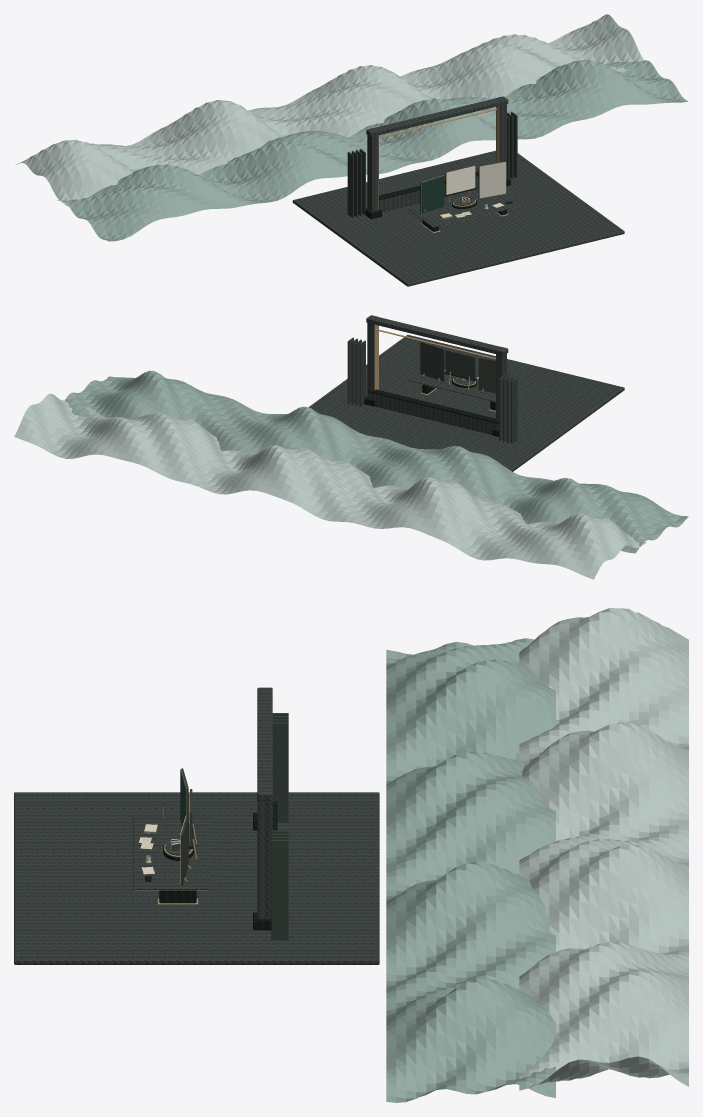
Rendered from c01-atelier.glb.
3 views of the same model, one above another, from view 1: azimuth 30°, elevation 25°; view 2: azimuth 150°, elevation 25°; view 3: azimuth 270°, elevation 25° (orthographic). The views are drawn at different scales.
Parts seen in each view (by area): view 1: Scenery ridge 0 | not geographic evidence, Scenery ridge 1 | not geographic evidence, Pavilion foundation, Research desk stone top, Window lintel, Pavilion pier, records inset reading face, evidence inset reading face, focus inset reading face, Low courtyard parapet, Pavilion pier.001, Side architecture fin.003; view 2: Scenery ridge 1 | not geographic evidence, Scenery ridge 0 | not geographic evidence, Pavilion foundation, Low courtyard parapet, Window lintel, Research desk stone top, records structural back, focus structural back, Parapet coping, Pavilion pier.001, evidence structural back, Side architecture fin.003 (+2 smaller); view 3: Scenery ridge 0 | not geographic evidence, Scenery ridge 1 | not geographic evidence, Pavilion foundation, Research desk stone top, Pavilion pier.001, Side architecture fin.007, Window lintel, Side architecture fin.
Boxes of the visible parts, box(x1,y1,x2,y2) form: Scenery ridge 0 | not geographic evidence: box(57, 59, 688, 241); Scenery ridge 1 | not geographic evidence: box(16, 14, 643, 206); Pavilion foundation: box(292, 150, 624, 286); Research desk stone top: box(408, 190, 524, 227); Window lintel: box(366, 96, 508, 136); Pavilion pier: box(367, 128, 378, 211); records inset reading face: box(479, 162, 505, 198); evidence inset reading face: box(421, 175, 444, 213); focus inset reading face: box(446, 166, 475, 194); Low courtyard parapet: box(379, 176, 478, 211); Pavilion pier.001: box(496, 96, 506, 178); Side architecture fin.003: box(347, 151, 353, 218); Scenery ridge 1 | not geographic evidence: box(14, 393, 646, 579); Scenery ridge 0 | not geographic evidence: box(65, 370, 688, 553); Pavilion foundation: box(309, 334, 624, 471); Low courtyard parapet: box(369, 392, 498, 434); Window lintel: box(366, 315, 508, 355); Research desk stone top: box(408, 365, 524, 402); records structural back: box(420, 342, 444, 381); focus structural back: box(445, 350, 475, 379); Parapet coping: box(367, 389, 498, 423); Pavilion pier.001: box(367, 315, 377, 398); evidence structural back: box(478, 357, 495, 393); Side architecture fin.003: box(511, 377, 517, 443); Scenery ridge 0 | not geographic evidence: box(386, 638, 555, 1102); Scenery ridge 1 | not geographic evidence: box(519, 608, 688, 1090); Pavilion foundation: box(14, 792, 379, 964); Research desk stone top: box(133, 816, 210, 889); Pavilion pier.001: box(257, 788, 272, 918); Side architecture fin.007: box(271, 839, 288, 939); Window lintel: box(257, 687, 272, 800); Side architecture fin: box(272, 722, 288, 822).
Bounding box in the file's own units: 32 × 4.67 × 20.3.
15 materials, 2 textured.
